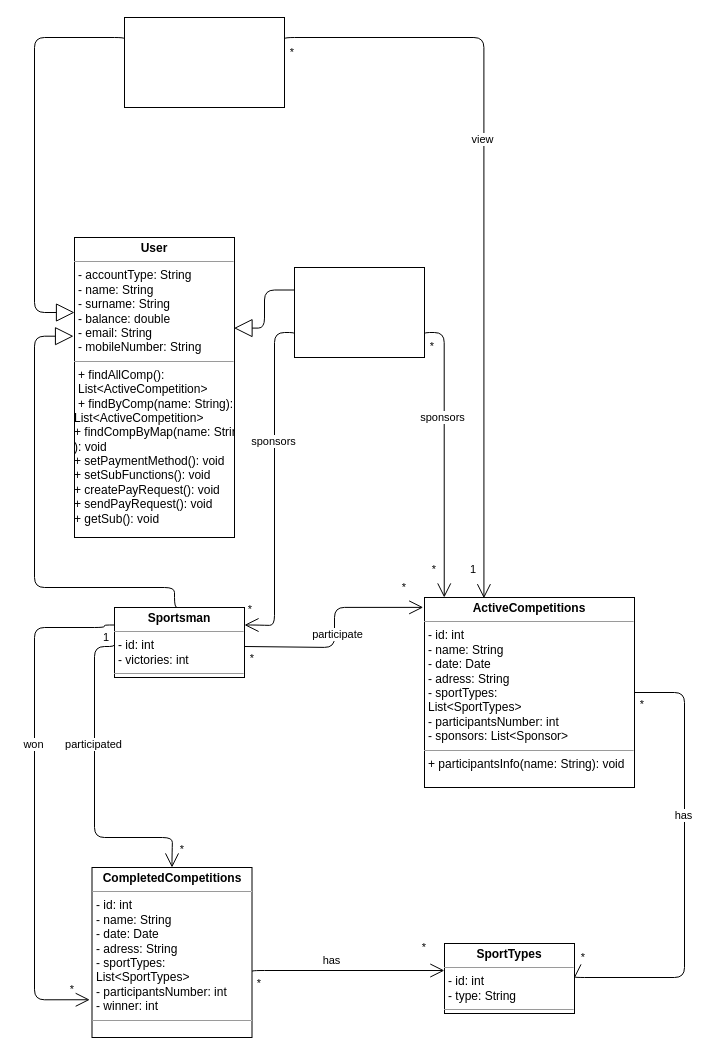
This 716x1055 diagram has some shape labels left out. Here are the shapes that lost their labels. From the top down, the box of each, then its label:
(124, 16, 284, 108): Viewer - id: int - selected_competition: List<ActiveCompetitions>
(294, 266, 424, 358): Sponsor - id: int - competitionId: int - sportsmanId: int
